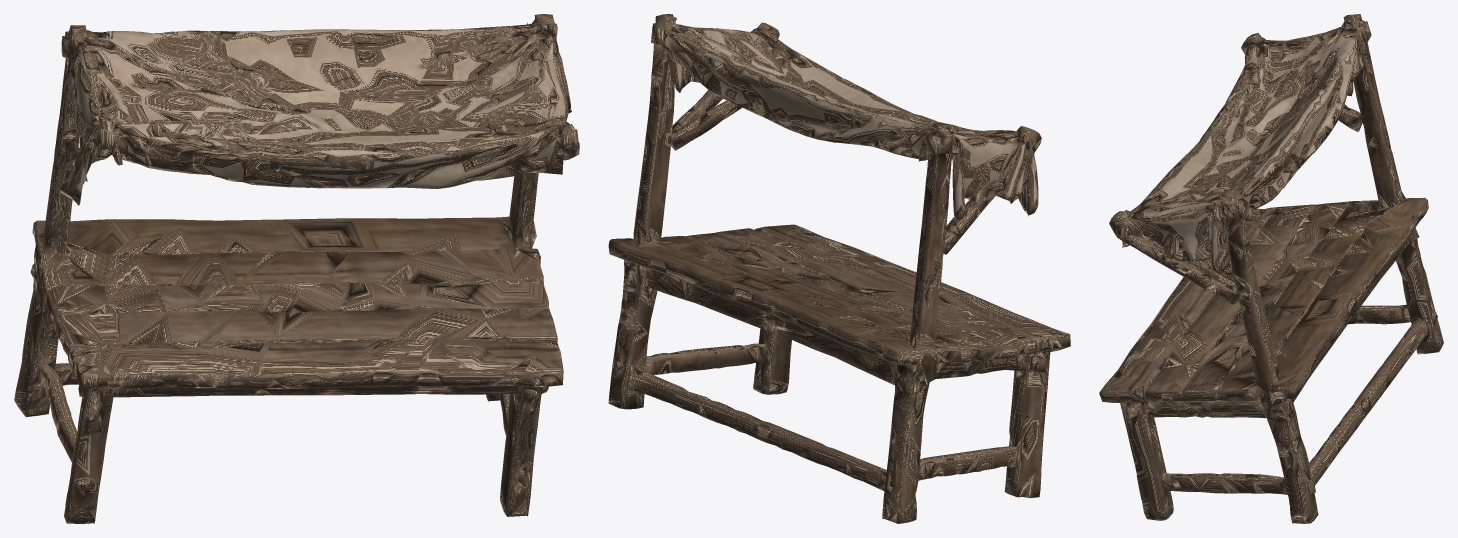
The model's file is lamp-workbench-pixal3d.glb.
The picture shows the model from 3 angles, left to right: view 1: azimuth 30°, elevation 25°; view 2: azimuth 150°, elevation 25°; view 3: azimuth 270°, elevation 25°; orthographic projection. The views are drawn at different scales.
Visible parts, largest first — view 1: geometry_0; view 2: geometry_0; view 3: geometry_0.
Part boxes in pixels (x1,y1,x2,y2): geometry_0: (14, 14, 579, 523); geometry_0: (608, 14, 1070, 523); geometry_0: (1099, 14, 1443, 523).
Bounding box in the file's own units: 2.37 × 2.2 × 1.82.
1 material, 1 textured.
